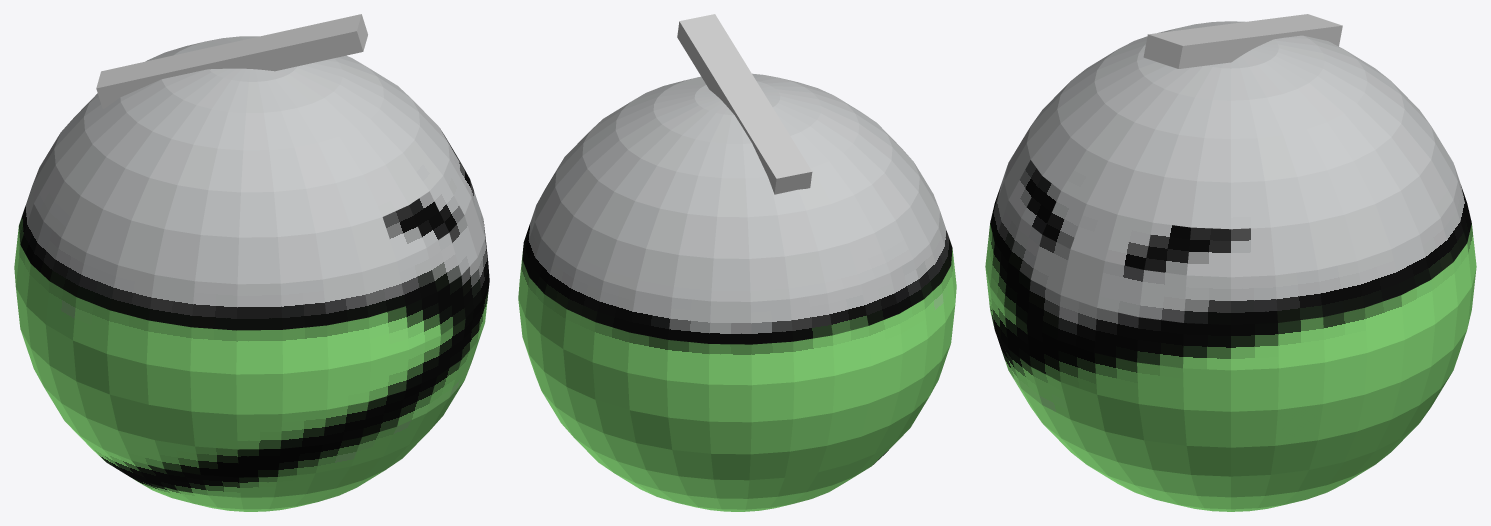
File: enemy.obj
3 renders of one model, left to right at view 1: azimuth 30°, elevation 25°; view 2: azimuth 150°, elevation 25°; view 3: azimuth 270°, elevation 25°, orthographic. The views are drawn at different scales.
Parts seen in each view (by area): view 1: 球, 立方体; view 2: 球, 立方体; view 3: 球, 立方体.
Part boxes in pixels (x1=…): 球: x1=14, y1=36, x2=489, y2=511; 立方体: x1=96, y1=14, x2=367, y2=108; 球: x1=518, y1=73, x2=956, y2=511; 立方体: x1=677, y1=14, x2=812, y2=194; 球: x1=985, y1=21, x2=1476, y2=511; 立方体: x1=1143, y1=14, x2=1342, y2=68.
Bounding box in the file's own units: 2 × 2.19 × 2.
